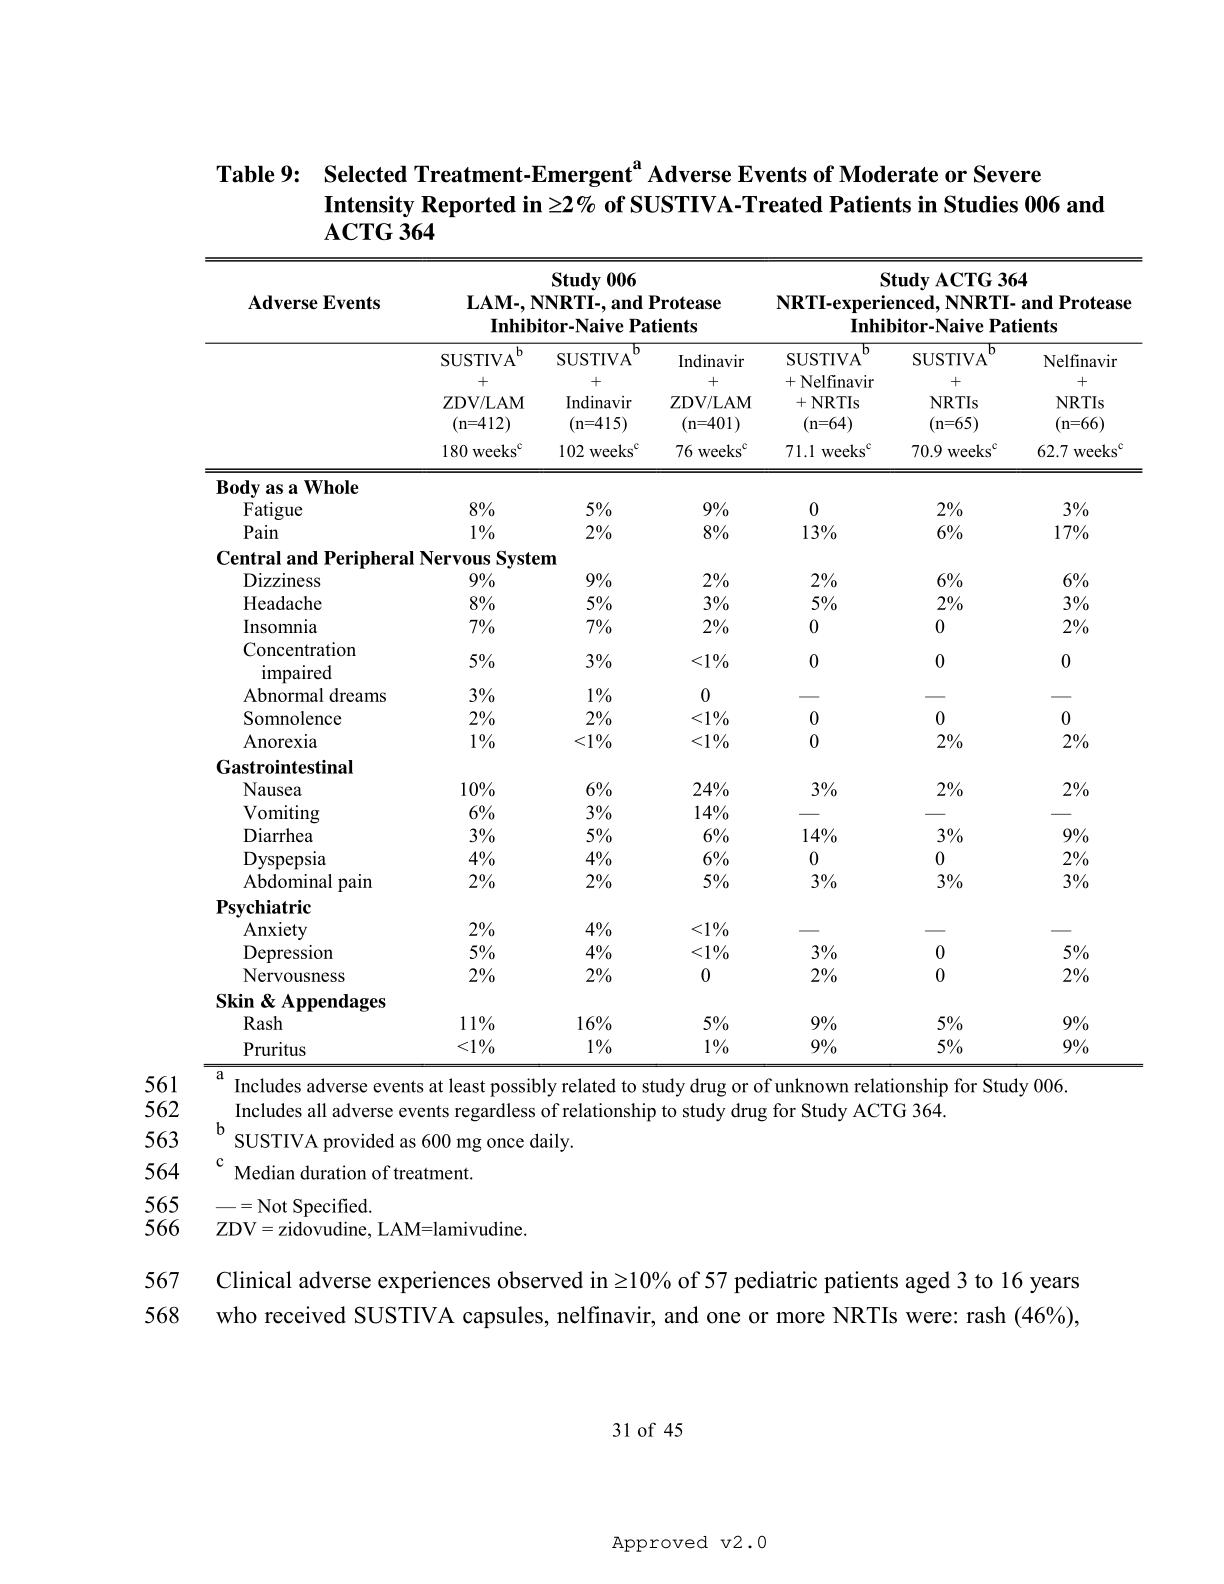partial_lined_merged_cells: (202, 256, 1143, 1068)
